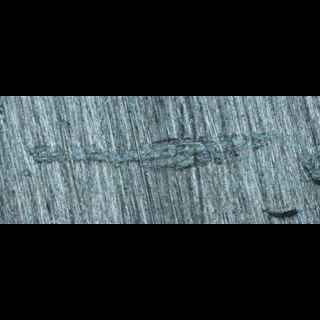d: (25, 127, 278, 171)
